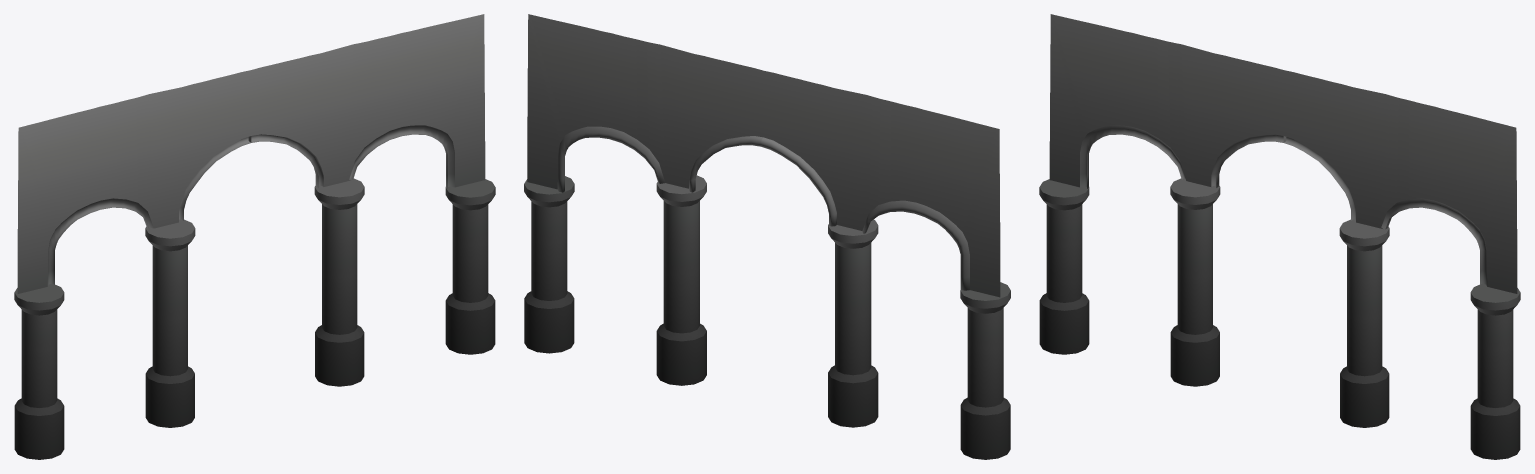
File: TheatreWall.fbx
3 renders of one model, left to right at view 1: azimuth 30°, elevation 25°; view 2: azimuth 150°, elevation 25°; view 3: azimuth 330°, elevation 25°, orthographic.
Visible parts, largest first — view 1: Plane, Cube.002, Cube.003, Cube.001, Cube.004; view 2: Plane, Cube.003, Cube.002, Cube.001, Cube.004; view 3: Plane, Cube.002, Cube.003, Cube.004, Cube.001.
Part boxes in pixels (x1,y1,x2,y2): Plane: [17, 14, 485, 293]; Cube.002: [145, 219, 195, 427]; Cube.003: [314, 178, 364, 386]; Cube.001: [14, 283, 64, 459]; Cube.004: [445, 179, 495, 354]; Plane: [527, 14, 1000, 297]; Cube.003: [656, 175, 706, 385]; Cube.002: [828, 219, 878, 427]; Cube.001: [960, 282, 1010, 459]; Cube.004: [524, 176, 574, 353]; Plane: [1049, 14, 1517, 293]; Cube.002: [1170, 178, 1220, 386]; Cube.003: [1339, 219, 1389, 427]; Cube.004: [1470, 283, 1520, 459]; Cube.001: [1039, 179, 1089, 354].
Size of the model in its own units: 2547 by 1668 by 232.
